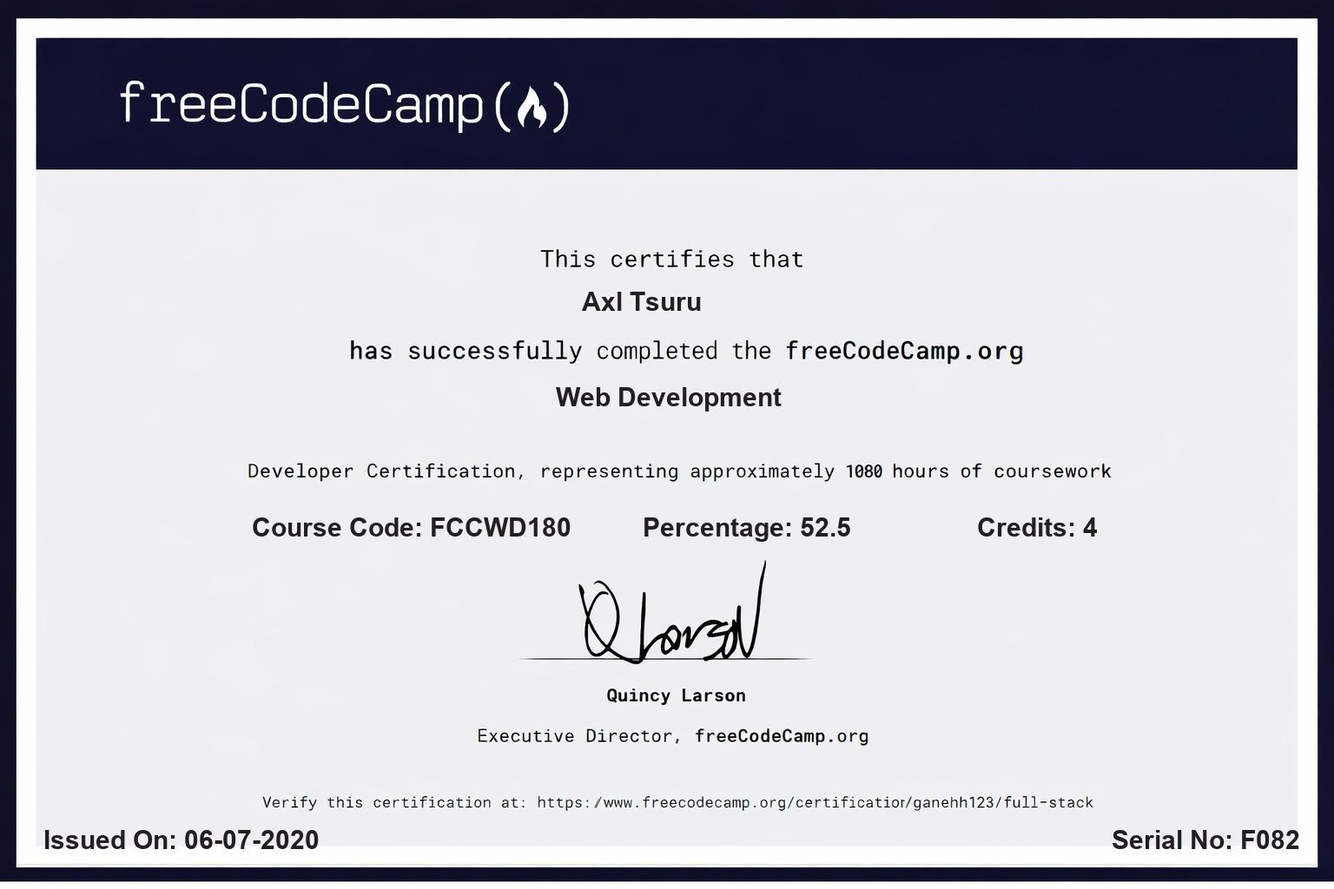Course Code: (424, 510, 583, 549)
Course Name: (549, 377, 790, 427)
Credits: (1078, 508, 1107, 549)
Issued On: (181, 821, 327, 856)
Percentage: (795, 510, 859, 544)
Serial No: (1238, 819, 1308, 858)
Student Name: (572, 278, 716, 323)
